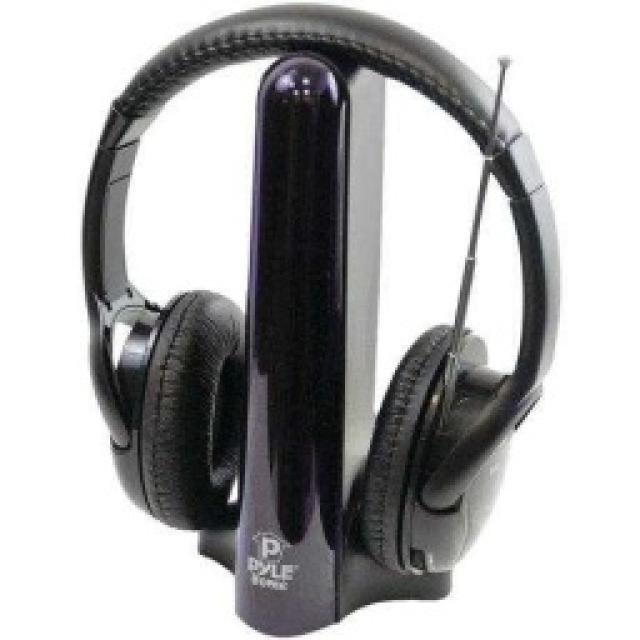headphones: (77, 0, 562, 632)
